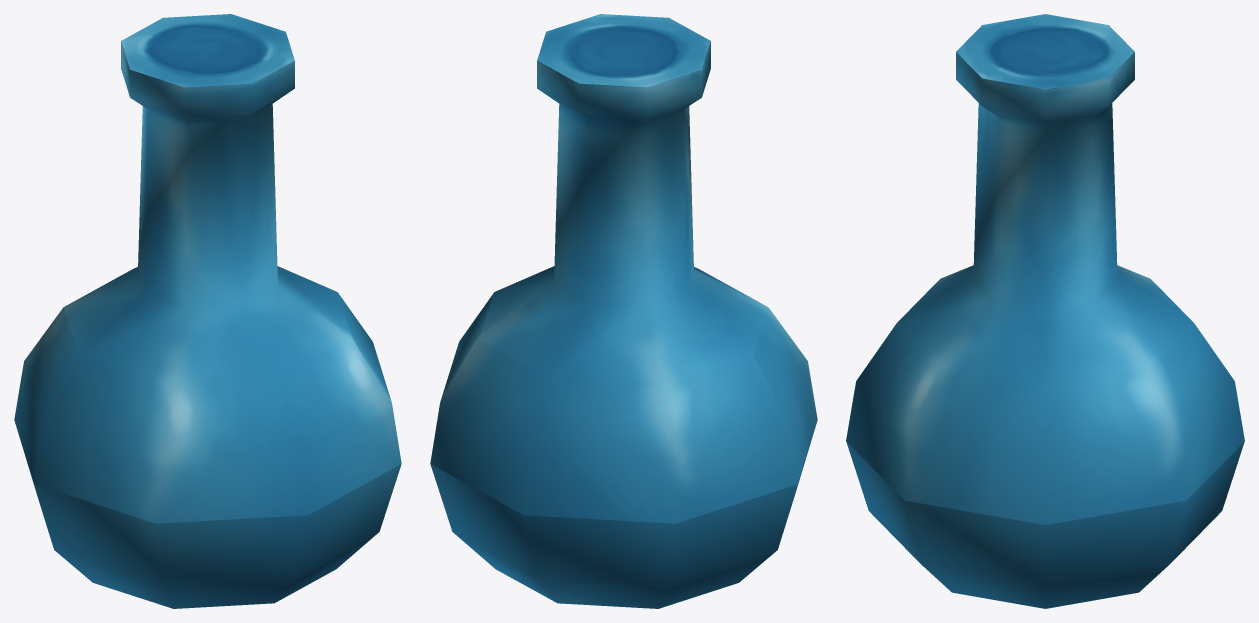
Rendered from SM_PoisonBottle.FBX.
3 renders of one model, left to right at view 1: azimuth 30°, elevation 25°; view 2: azimuth 150°, elevation 25°; view 3: azimuth 270°, elevation 25°, orthographic.
Parts seen in each view (by area): view 1: Vessel; view 2: Vessel; view 3: Vessel.
Boxes of the visible parts, <box> form: Vessel: <box>14,14,401,608</box>; Vessel: <box>430,14,817,608</box>; Vessel: <box>846,14,1244,608</box>.
Size of the model in its own units: 20.88 by 28.95 by 20.88.
